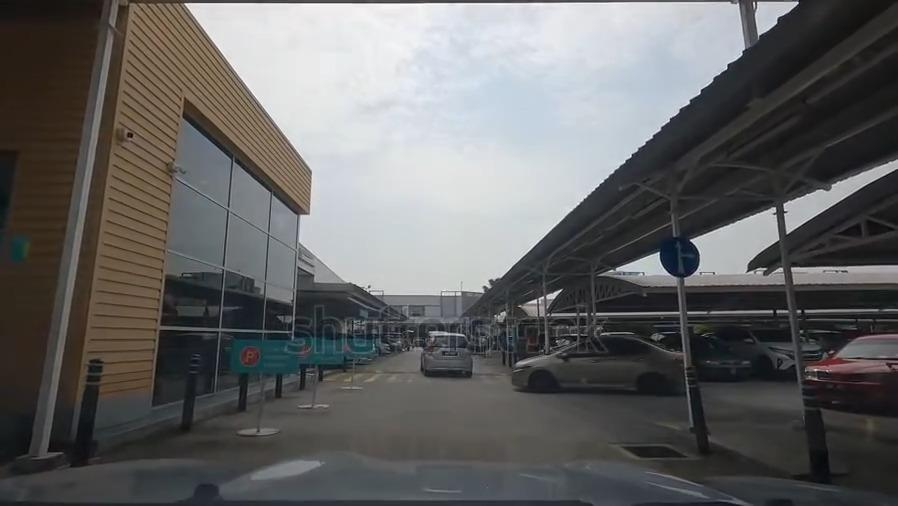car: (512, 343, 687, 396), (804, 337, 898, 403), (730, 326, 821, 370), (669, 335, 750, 377), (425, 333, 472, 373)
manhole: (613, 439, 692, 462)
pedestrian: (318, 375, 522, 387)
speedbump: (349, 365, 503, 378)
